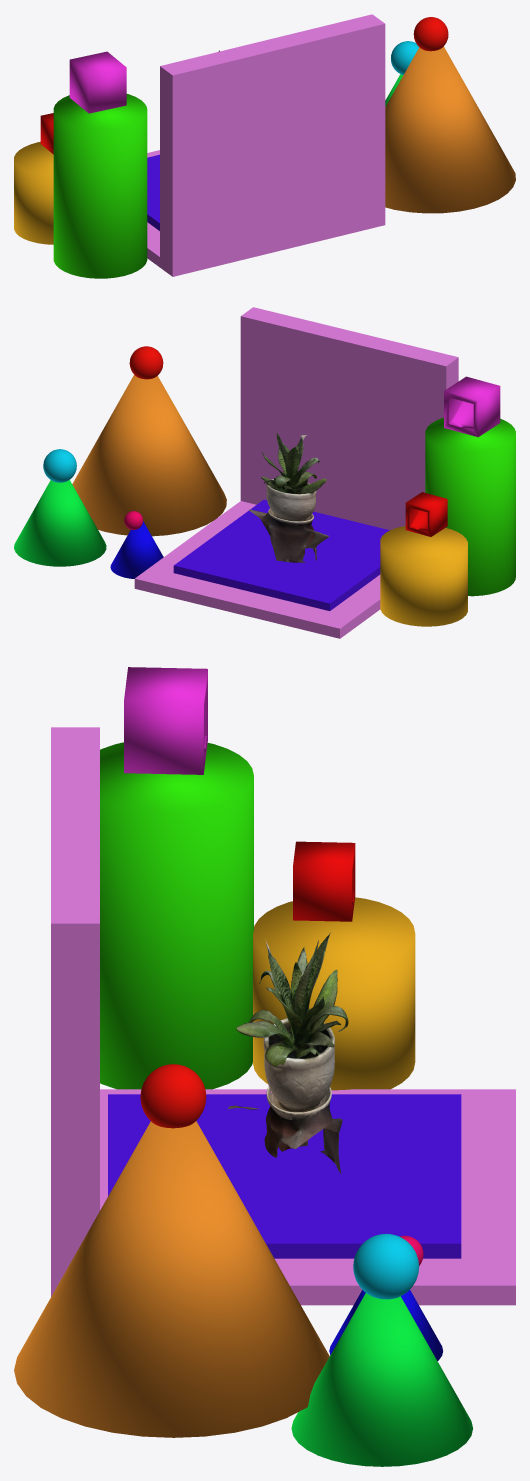
The model's file is asset.glb.
The picture shows the model from 3 angles, top to bottom: view 1: azimuth 30°, elevation 25°; view 2: azimuth 150°, elevation 25°; view 3: azimuth 270°, elevation 25°; orthographic projection. The views are drawn at different scales.
Parts seen in each view (by area): view 1: Cube, Cylinder, Cone, Cylinder.001, Cube.002, Sphere, Cube.001, Sphere.001, Cube.003; view 2: Cube, Cone, Cube.001, Cylinder, Cylinder.001, Cone.001, Mesh_0, Cube.002, Cone.002, Cube.003, Sphere.001, Sphere; view 3: Cone, Cylinder, Cube, Cube.001, Cone.001, Cylinder.001, Mesh_0, Cube.002, Cube.003, Sphere.001, Sphere, Cone.002.
Part boxes in pixels (x1,y1,x2,y2): Cube: (147, 14, 385, 276); Cylinder: (53, 94, 147, 278); Cone: (385, 46, 515, 213); Cylinder.001: (14, 141, 53, 244); Cube.002: (69, 51, 126, 113); Sphere: (413, 17, 448, 51); Cube.001: (147, 154, 159, 230); Sphere.001: (391, 41, 419, 74); Cube.003: (40, 113, 53, 154); Cube: (134, 307, 458, 638); Cone: (72, 375, 226, 536); Cube.001: (173, 499, 389, 610); Cylinder: (425, 417, 515, 596); Cylinder.001: (380, 526, 467, 626); Cone.001: (14, 480, 106, 566); Mesh_0: (249, 433, 329, 562); Cube.002: (444, 376, 500, 437); Cone.002: (110, 521, 163, 578); Cube.003: (405, 492, 447, 536); Sphere.001: (43, 449, 76, 482); Sphere: (129, 346, 163, 379); Cone: (14, 1121, 329, 1437); Cylinder: (100, 742, 253, 1089); Cube: (51, 727, 515, 1305); Cube.001: (108, 1094, 461, 1258); Cone.001: (291, 1293, 472, 1466); Cylinder.001: (253, 897, 415, 1090); Mesh_0: (228, 932, 348, 1173); Cube.002: (124, 667, 207, 774); Cube.003: (293, 841, 355, 921); Sphere.001: (353, 1233, 419, 1299); Sphere: (140, 1064, 206, 1128); Cone.002: (329, 1290, 442, 1360).
Bounding box in the file's own units: 1.64 × 0.7408 × 0.8375.
Materials: 13 (1 with a texture image).
